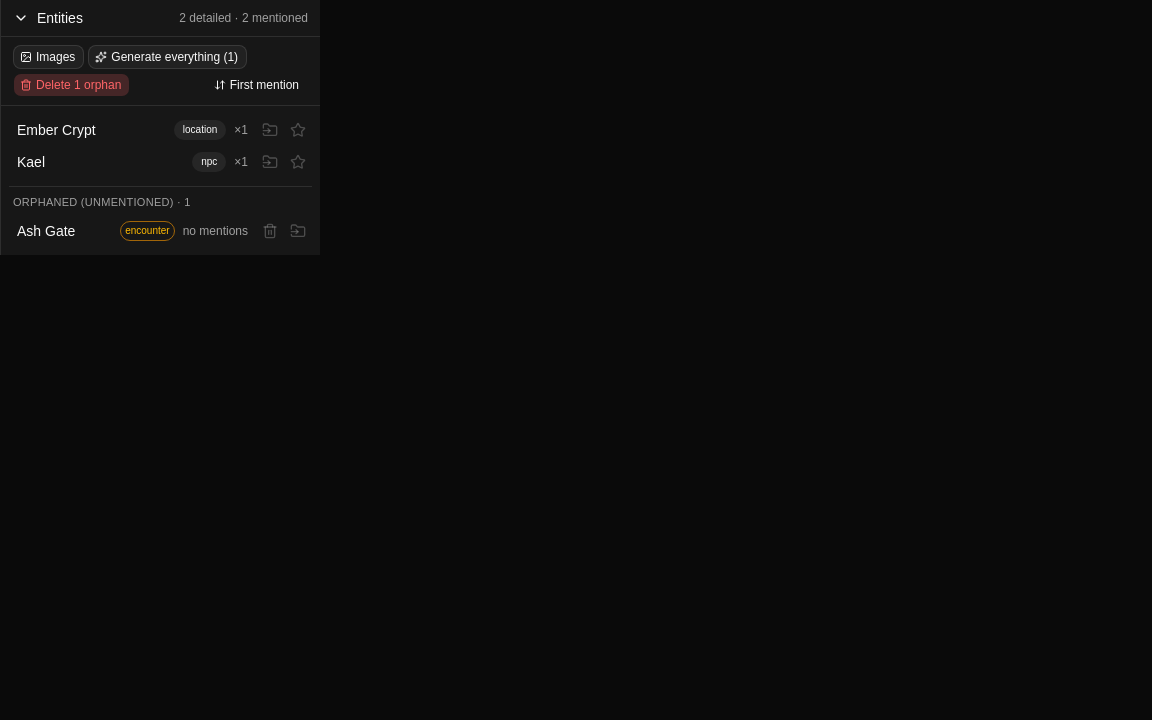
Test case: the entity sidebar control › appears for an encounter whose un-imaged mobs are all materialized CORE creatures (owner report)
This screenshot has width=1152, height=720.
Click the button with test id "generate-everything" at coordinates (168, 57), box [88,45,247,69]
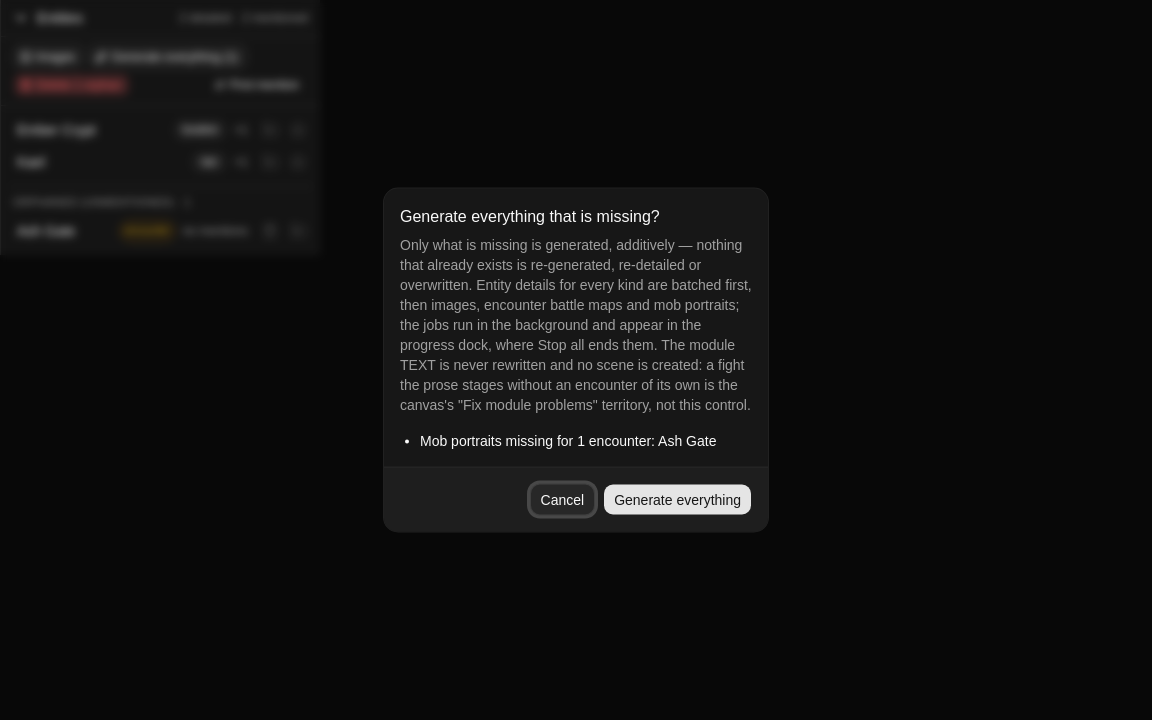
Result: the elements with test id "generate-everything-line" read "Mob portraits missing for 1 encounter: Ash Gate", in this order at [420,430,752,450]
